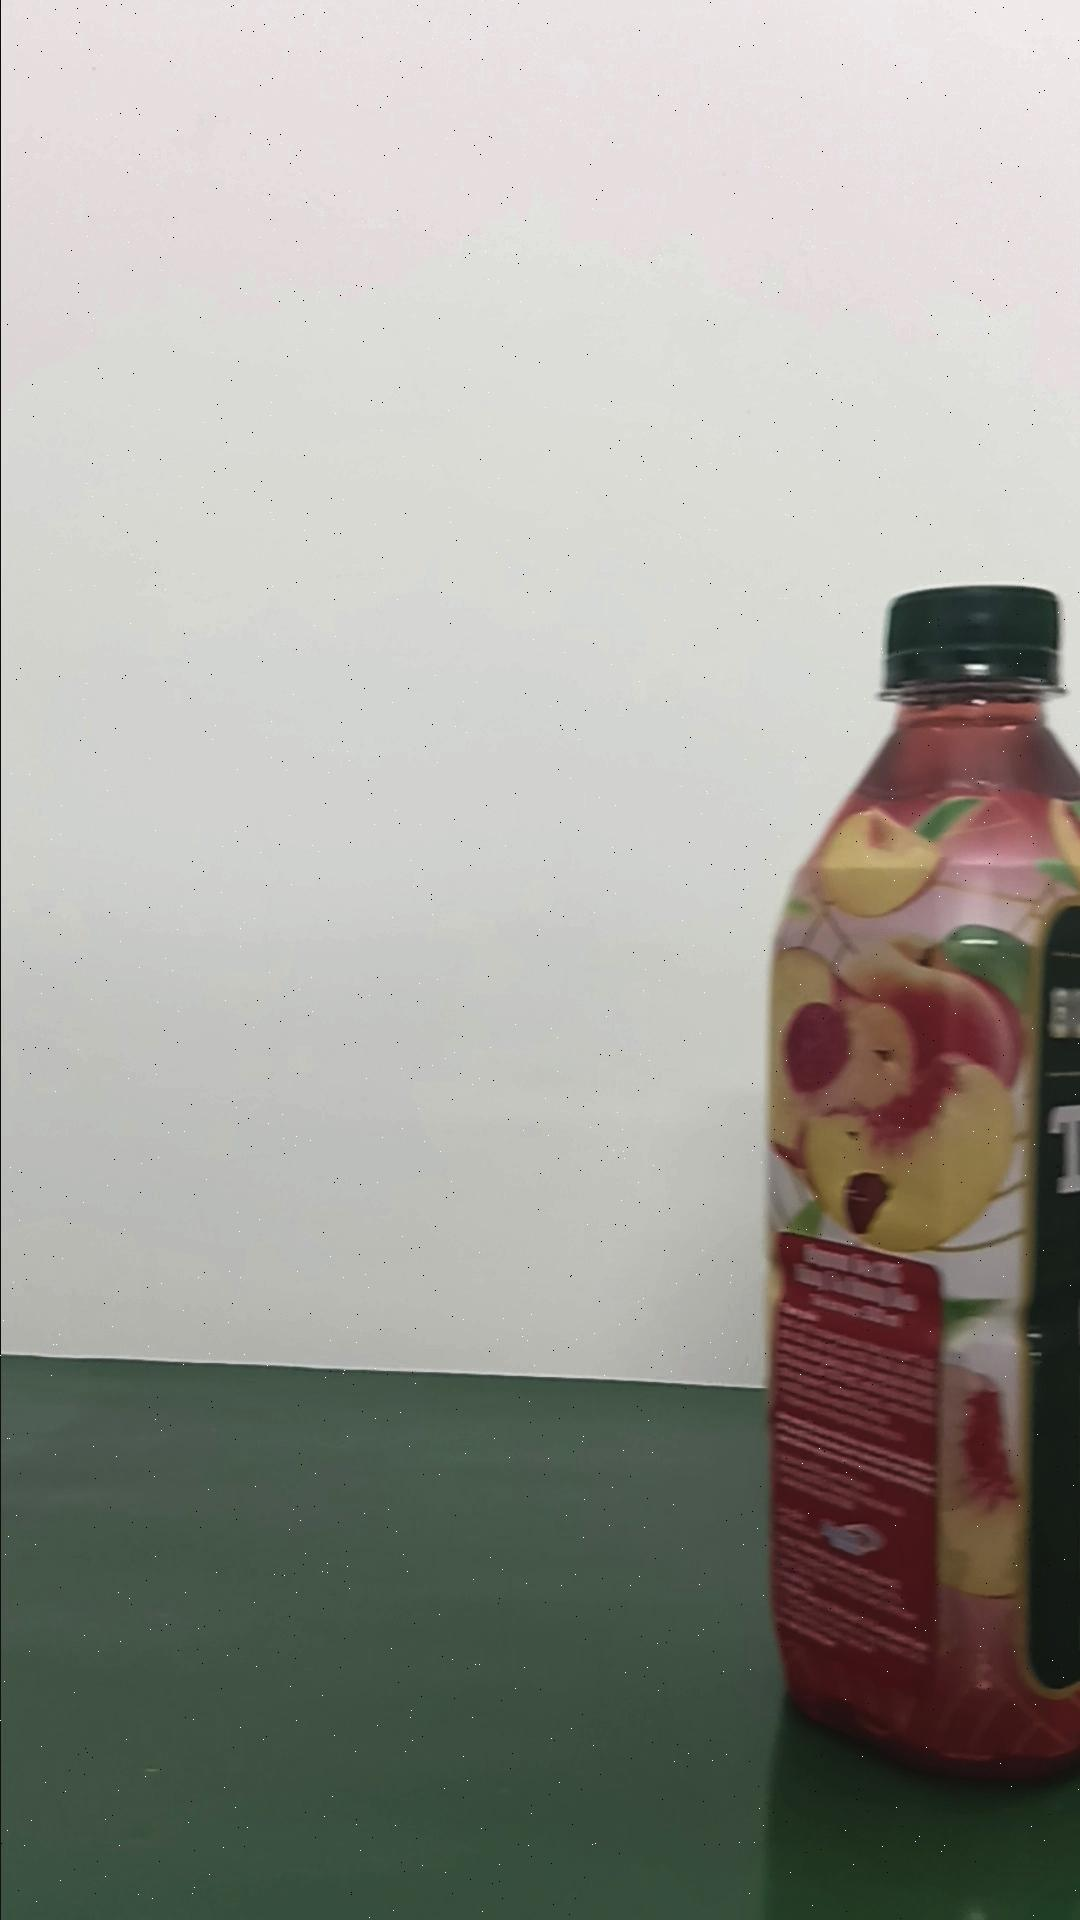loi rach va lap chai: (756, 578, 1076, 1795)
